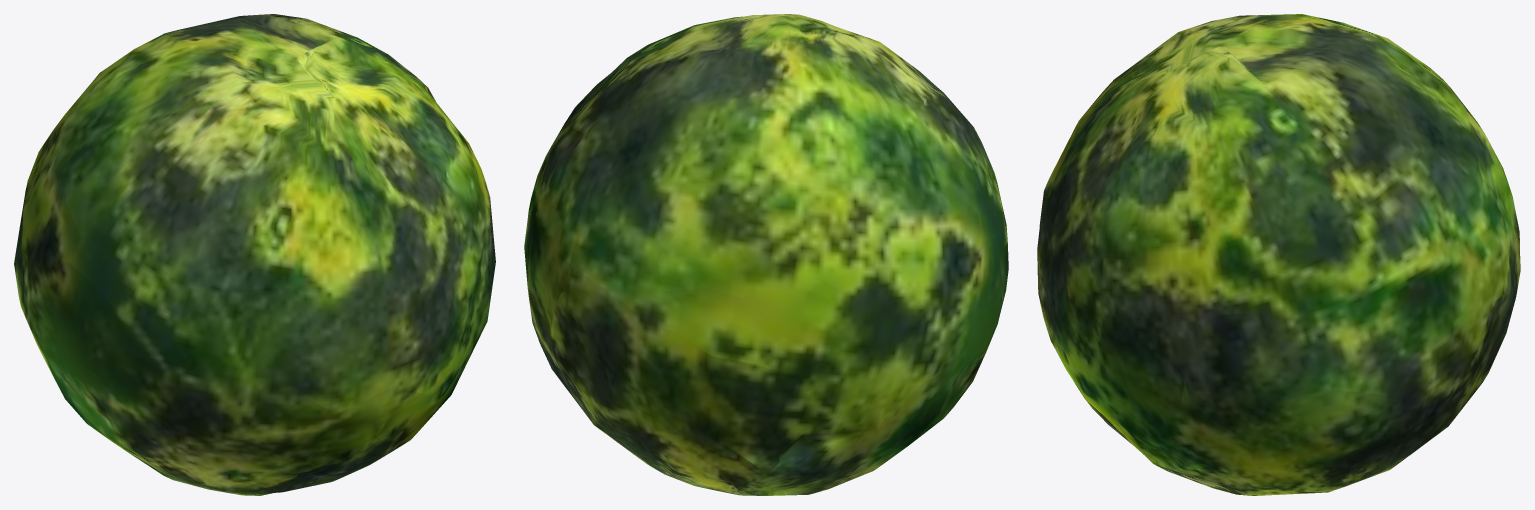
The model's file is planet_7-lod.glb.
3 views of the same model, side by side, from view 1: azimuth 30°, elevation 25°; view 2: azimuth 150°, elevation 25°; view 3: azimuth 270°, elevation 25° (orthographic).
Visible parts, largest first — view 1: Mesh_0.001; view 2: Mesh_0.001; view 3: Mesh_0.001.
Boxes of the visible parts, left/top/right/bottom form: Mesh_0.001: left=14, top=14, right=495, bottom=495; Mesh_0.001: left=524, top=14, right=1008, bottom=495; Mesh_0.001: left=1037, top=14, right=1520, bottom=495.
Size of the model in its own units: 1.9 by 1.9 by 1.9.
Materials: 1 (1 with a texture image).
